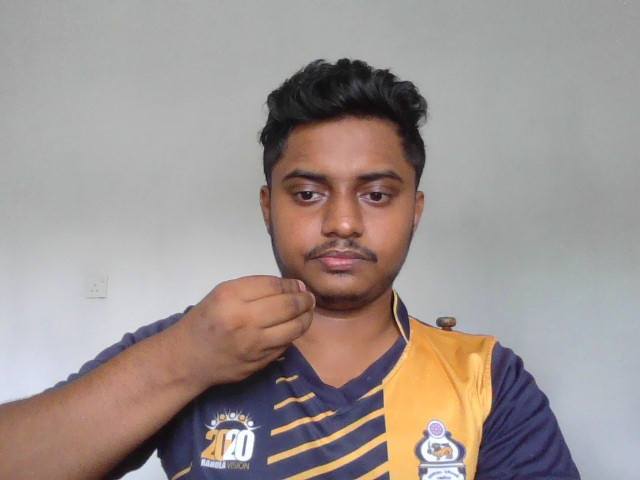Eat: (188, 271, 321, 388)
